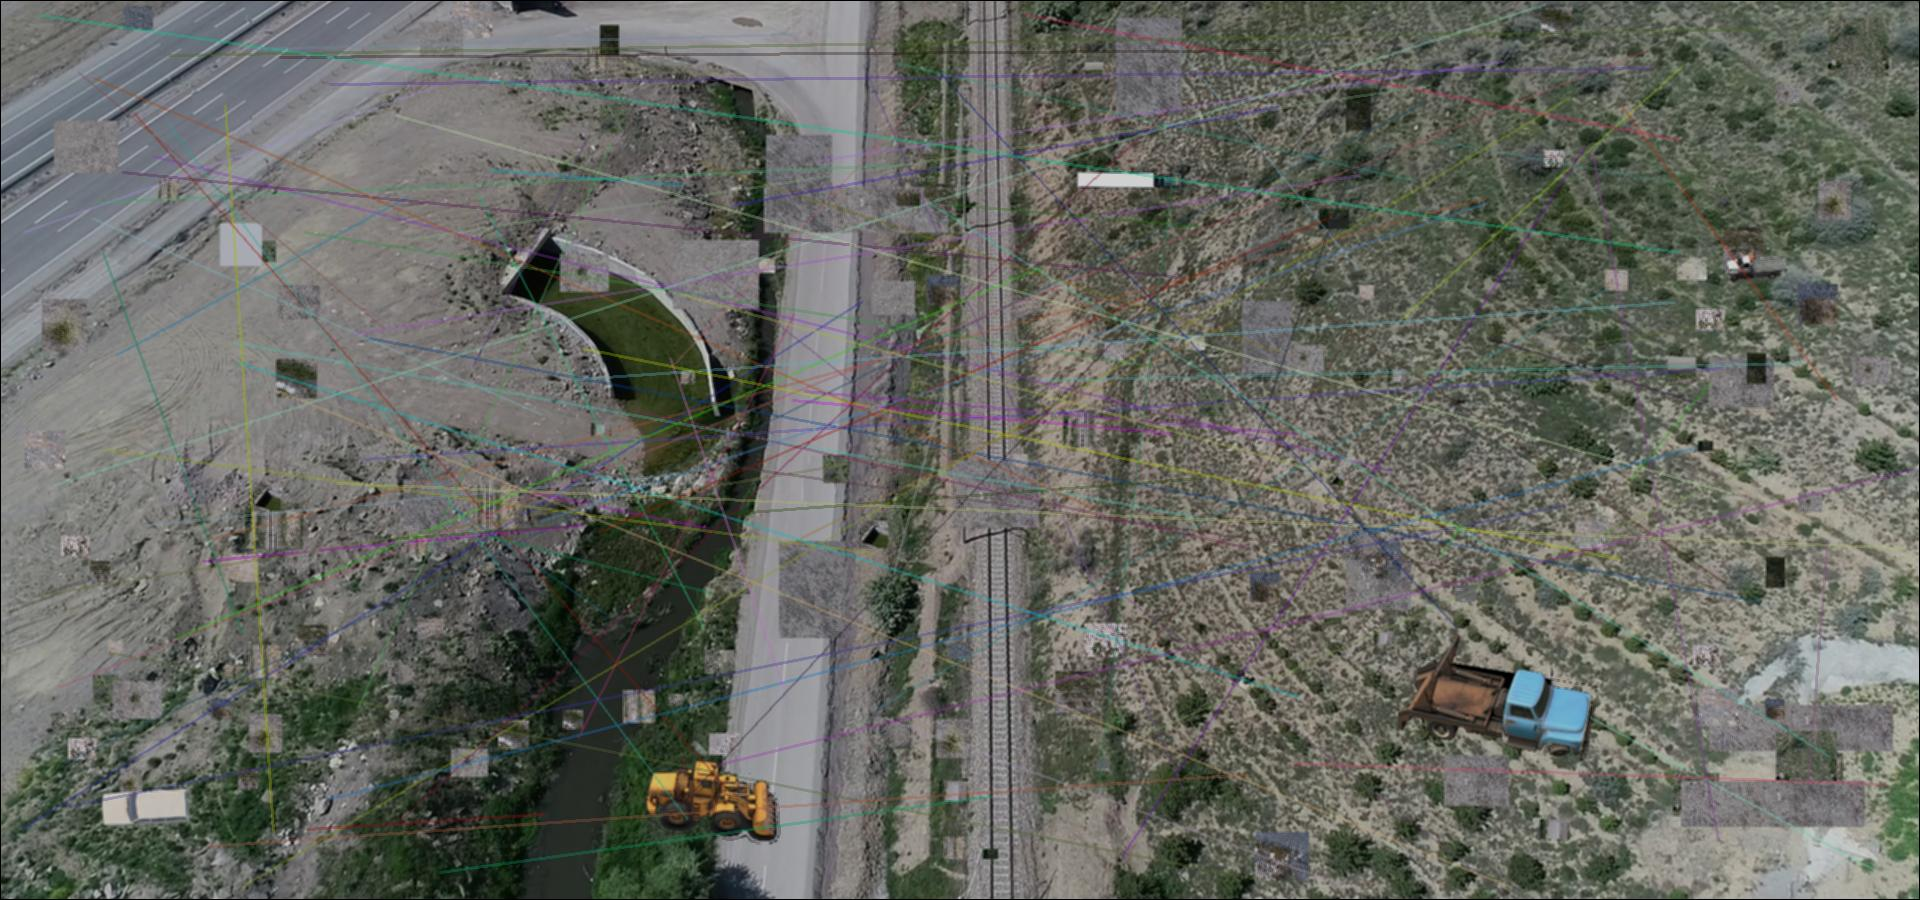arac: (1398, 634, 1598, 760), (640, 756, 781, 844), (100, 787, 191, 827), (1075, 169, 1183, 191), (1725, 251, 1787, 282)
